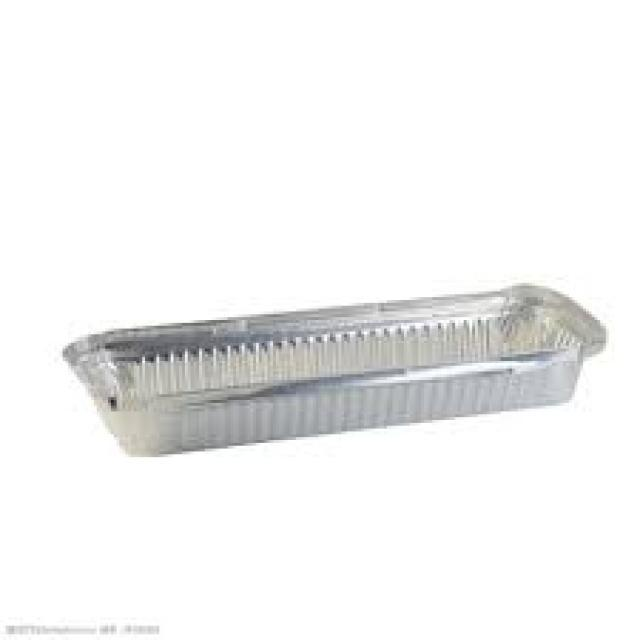recyclable: (58, 282, 608, 459)
